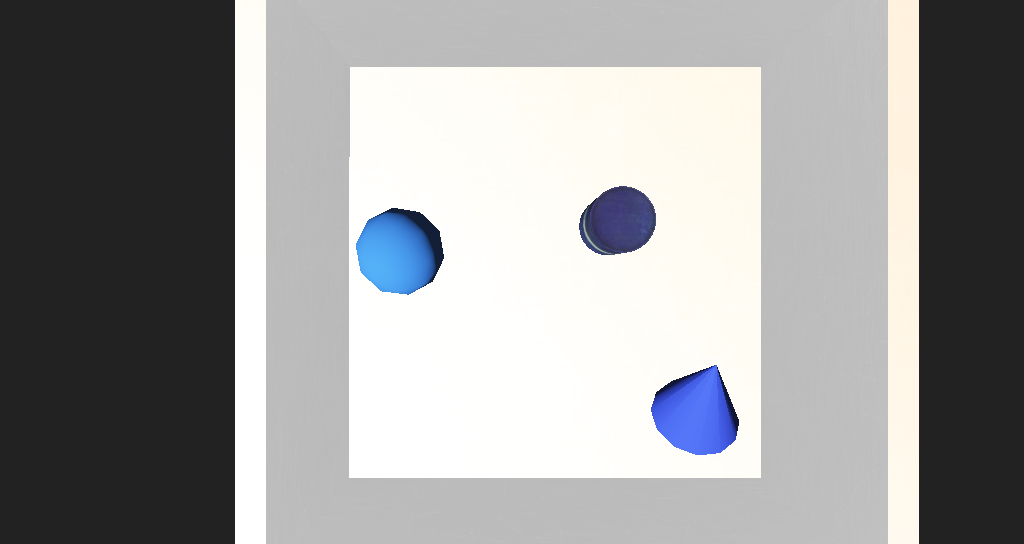cone: (529, 227, 576, 260)
cylinder: (566, 293, 660, 375)
sphere: (357, 234, 424, 282)
